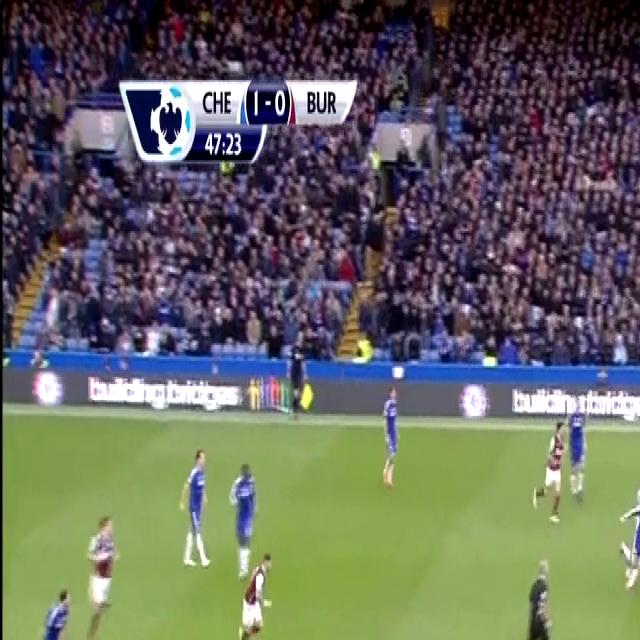referee: (513, 544, 557, 640), (280, 322, 312, 426)
soccer-player: (77, 501, 120, 640), (175, 437, 214, 571), (233, 542, 277, 640), (228, 454, 260, 580), (534, 412, 566, 528), (562, 388, 592, 508), (612, 475, 640, 601), (378, 374, 405, 498), (27, 572, 73, 640)
